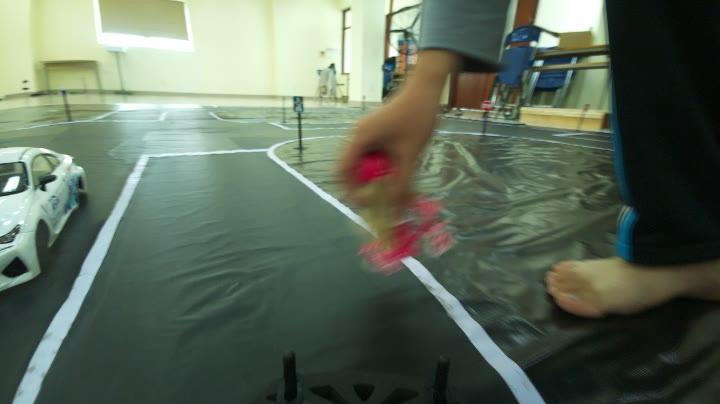car: (0, 125, 85, 300)
